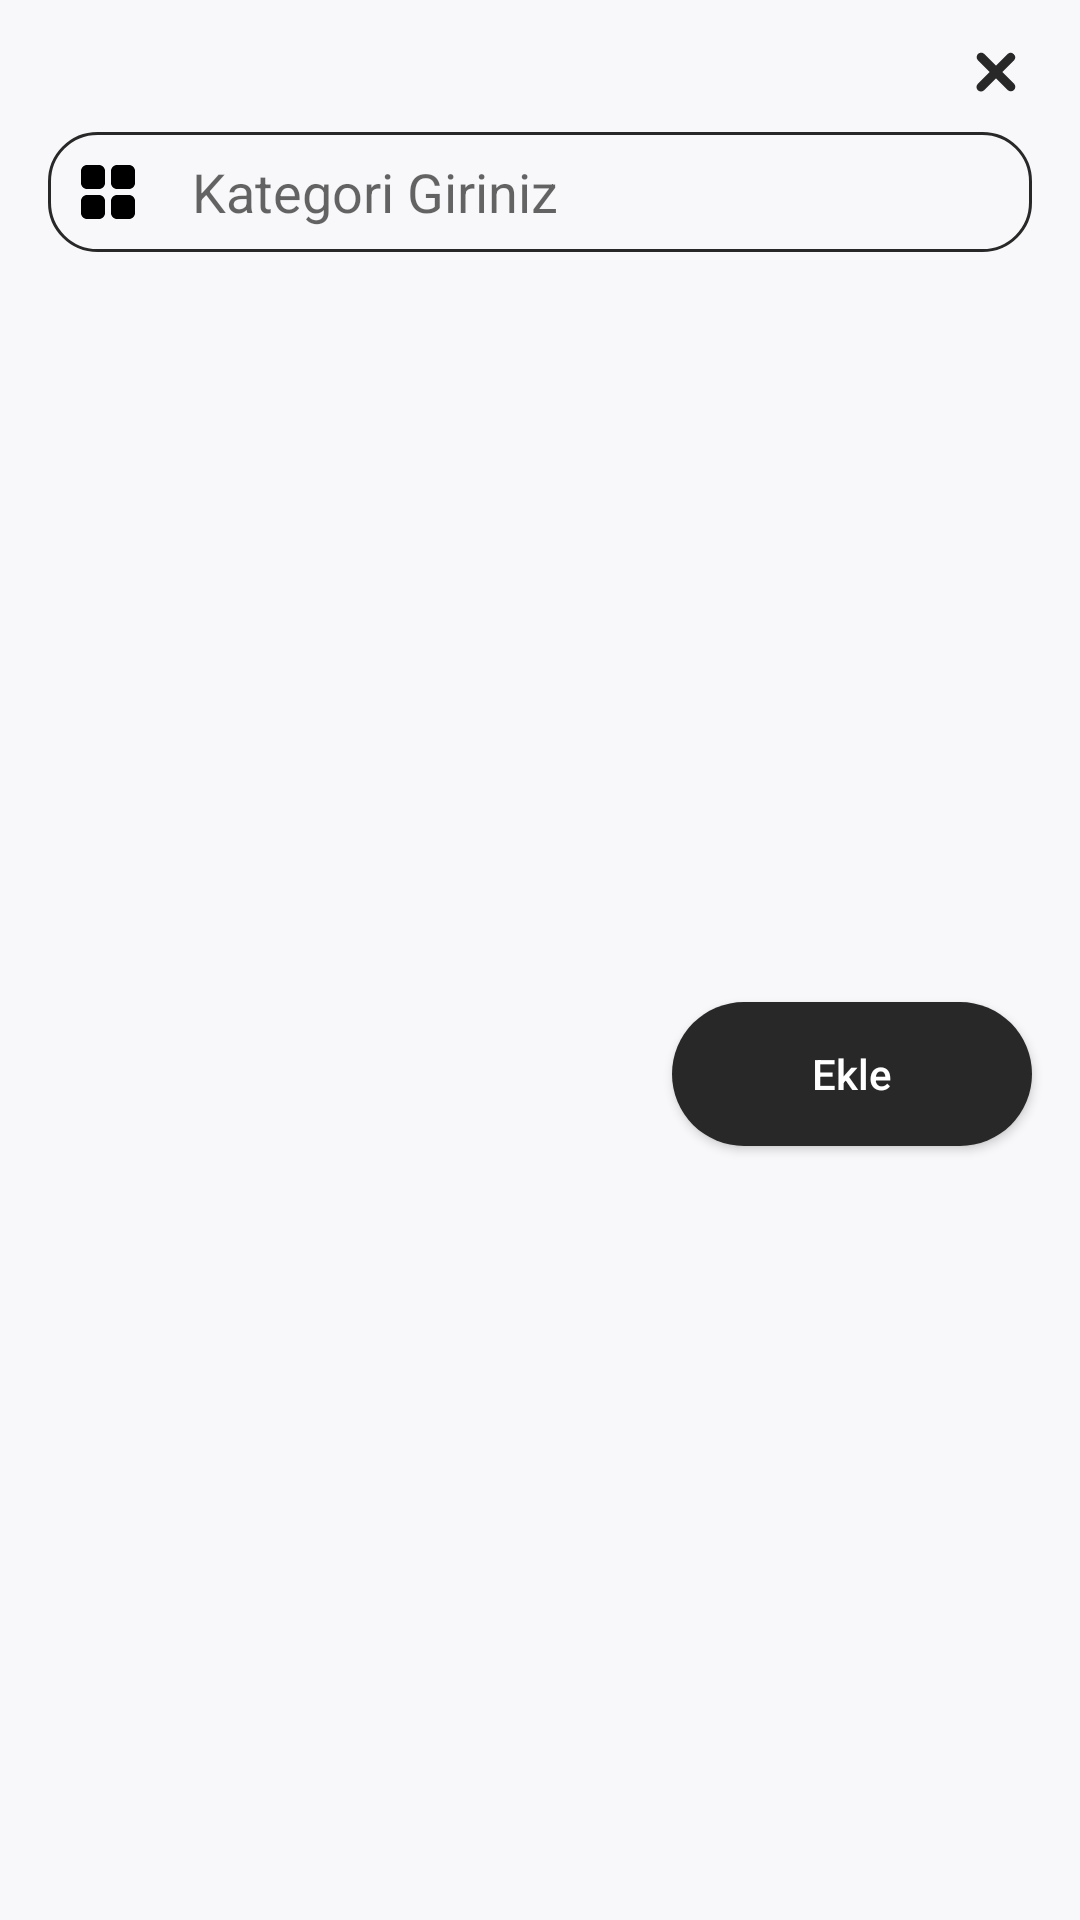

Named icons in this screenshot (1080px x 1920px) and their bounding boxes, (x1, y1, x2, y2):
cancel: (976, 52, 1016, 92)
